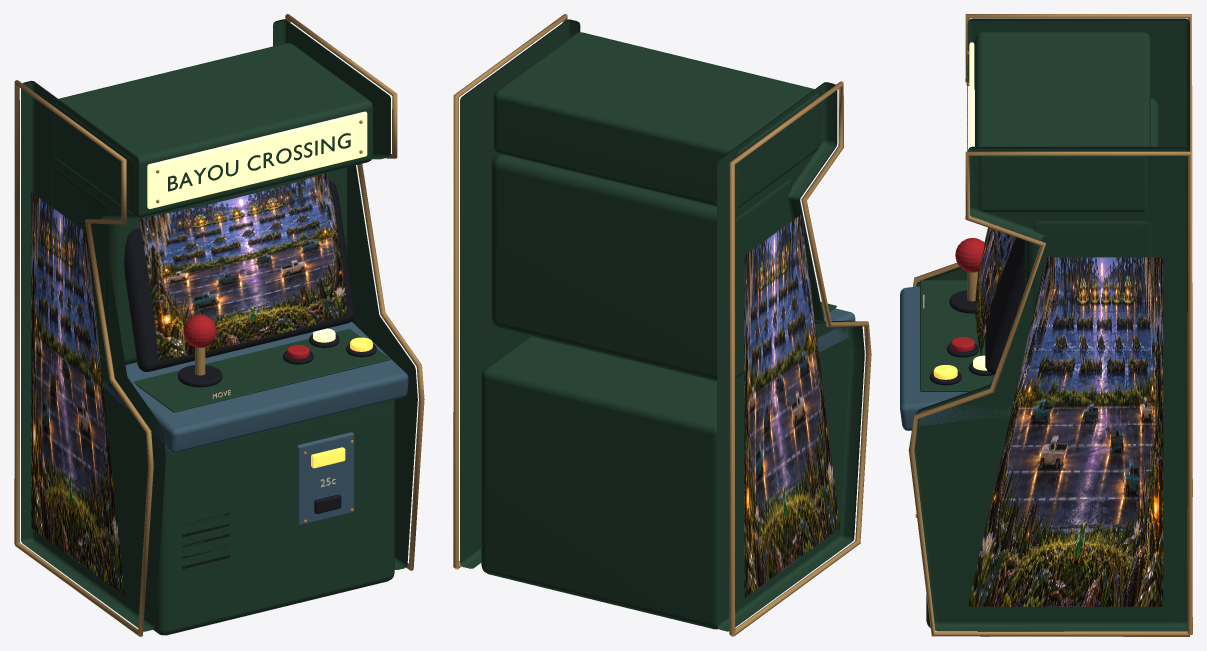
Rendered from cabinet.glb.
3 renders of one model, left to right at view 1: azimuth 30°, elevation 25°; view 2: azimuth 150°, elevation 25°; view 3: azimuth 270°, elevation 25°, orthographic. The views are drawn at different scales.
Parts seen in each view (by area): view 1: Cabinet lower case, Convex illustrated CRT, Marquee top housing, Illustrated side panel, Sculpted cabinet side, Sloping control console, Sculpted cabinet side.001, Backlit marquee, Continuous T molding, Control panel print, Monitor housing, Deep CRT surround (+5 smaller); view 2: Cabinet lower case, Monitor housing, Marquee top housing, Illustrated side panel, Sculpted cabinet side, Sculpted cabinet side.001, Continuous T molding, Continuous T molding.001, Sloping control console; view 3: Illustrated side panel.001, Sculpted cabinet side.001, Marquee top housing, Cabinet lower case, Continuous T molding.001, Sculpted cabinet side, Monitor housing, Control panel print, Sloping control console, Deep CRT surround, Convex illustrated CRT, Continuous T molding (+3 smaller).
Part boxes in pixels (left/top/right/bottom): Cabinet lower case: left=43, top=400, right=394, bottom=635; Convex illustrated CRT: left=138, top=173, right=347, bottom=360; Marquee top housing: left=54, top=43, right=373, bottom=217; Illustrated side panel: left=31, top=192, right=124, bottom=595; Sculpted cabinet side: left=21, top=80, right=165, bottom=631; Sloping control console: left=102, top=321, right=408, bottom=453; Sculpted cabinet side.001: left=273, top=19, right=417, bottom=569; Backlit marquee: left=147, top=111, right=367, bottom=208; Continuous T molding: left=14, top=80, right=153, bottom=636; Control panel print: left=133, top=329, right=390, bottom=412; Monitor housing: left=52, top=166, right=347, bottom=364; Deep CRT surround: left=124, top=181, right=355, bottom=371; Cabinet lower case: left=481, top=336, right=839, bottom=629; Monitor housing: left=491, top=154, right=792, bottom=381; Marquee top housing: left=493, top=32, right=819, bottom=207; Illustrated side panel: left=744, top=214, right=839, bottom=597; Sculpted cabinet side: left=717, top=82, right=864, bottom=631; Sculpted cabinet side.001: left=460, top=19, right=580, bottom=568; Continuous T molding: left=729, top=81, right=871, bottom=636; Continuous T molding.001: left=453, top=14, right=567, bottom=569; Sloping control console: left=817, top=308, right=855, bottom=352; Illustrated side panel.001: left=968, top=257, right=1163, bottom=606; Sculpted cabinet side.001: left=914, top=146, right=1189, bottom=631; Marquee top housing: left=975, top=32, right=1150, bottom=211; Cabinet lower case: left=926, top=432, right=1170, bottom=627; Continuous T molding.001: left=908, top=151, right=1192, bottom=636; Sculpted cabinet side: left=916, top=18, right=1189, bottom=286; Monitor housing: left=1025, top=97, right=1159, bottom=313; Control panel print: left=920, top=280, right=994, bottom=391; Sloping control console: left=900, top=286, right=1011, bottom=430; Deep CRT surround: left=985, top=233, right=1025, bottom=374; Convex illustrated CRT: left=975, top=223, right=1017, bottom=355; Continuous T molding: left=913, top=14, right=1192, bottom=496.
Bounding box in the file's own units: 1.36 × 2.27 × 1.2.
9 materials, 1 textured.
